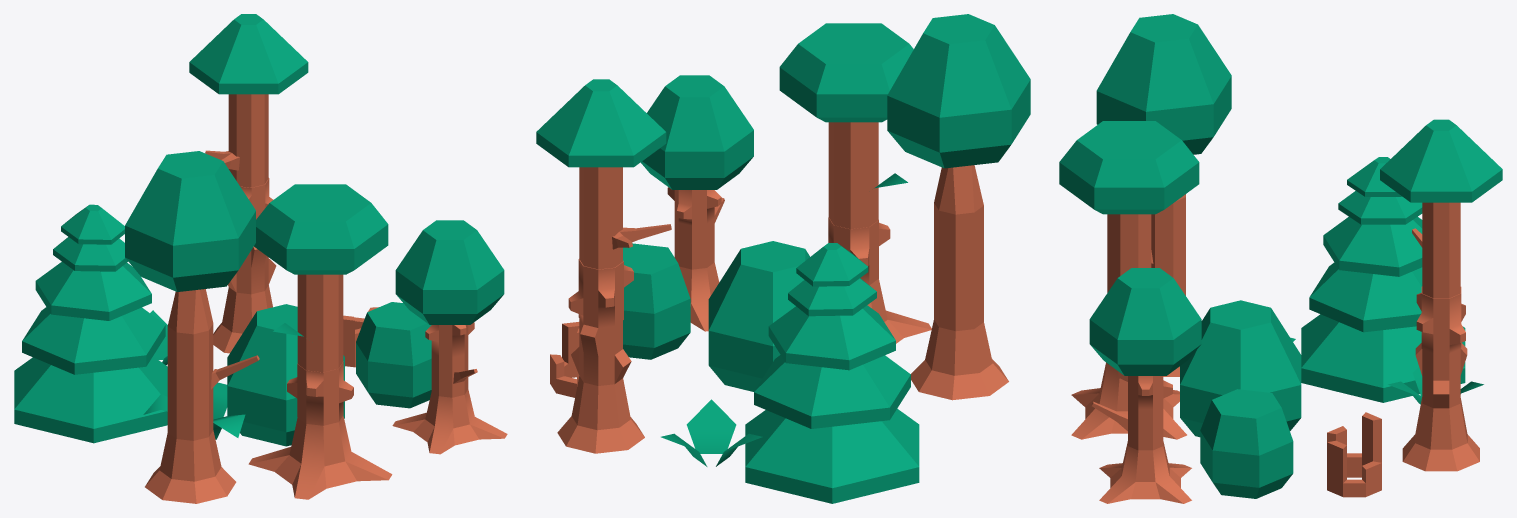
File: ForestSmall.fbx
3 views of the same model, side by side, from view 1: azimuth 30°, elevation 25°; view 2: azimuth 150°, elevation 25°; view 3: azimuth 270°, elevation 25° (orthographic). The views are drawn at different scales.
Visible parts, largest first — view 1: mergedBlocks; view 2: mergedBlocks; view 3: mergedBlocks.
Boxes of the visible parts, x1,y1,x2,y2 form: mergedBlocks: (14,14,507,503); mergedBlocks: (536,14,1030,503); mergedBlocks: (1059,14,1502,503).
Size of the model in its own units: 28.38 by 24 by 29.24.
